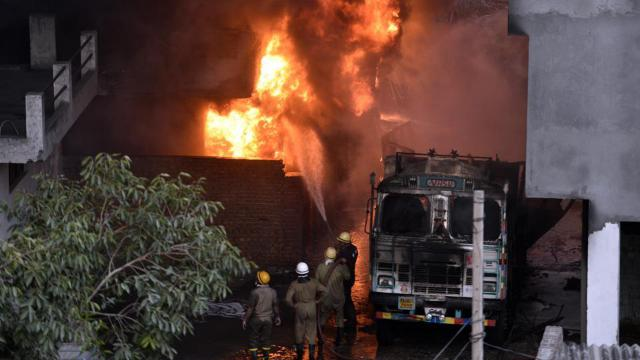fire: (202, 110, 274, 158), (253, 36, 304, 100), (362, 0, 398, 42), (338, 48, 362, 78), (352, 83, 372, 117)
smoke: (398, 0, 506, 148), (97, 1, 251, 95), (85, 100, 195, 156), (307, 1, 339, 97), (506, 36, 520, 162)
